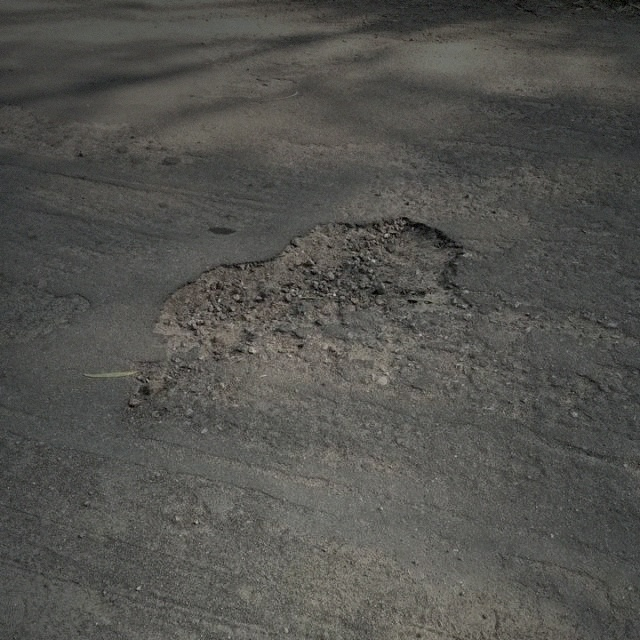pothole: (149, 212, 471, 358)
